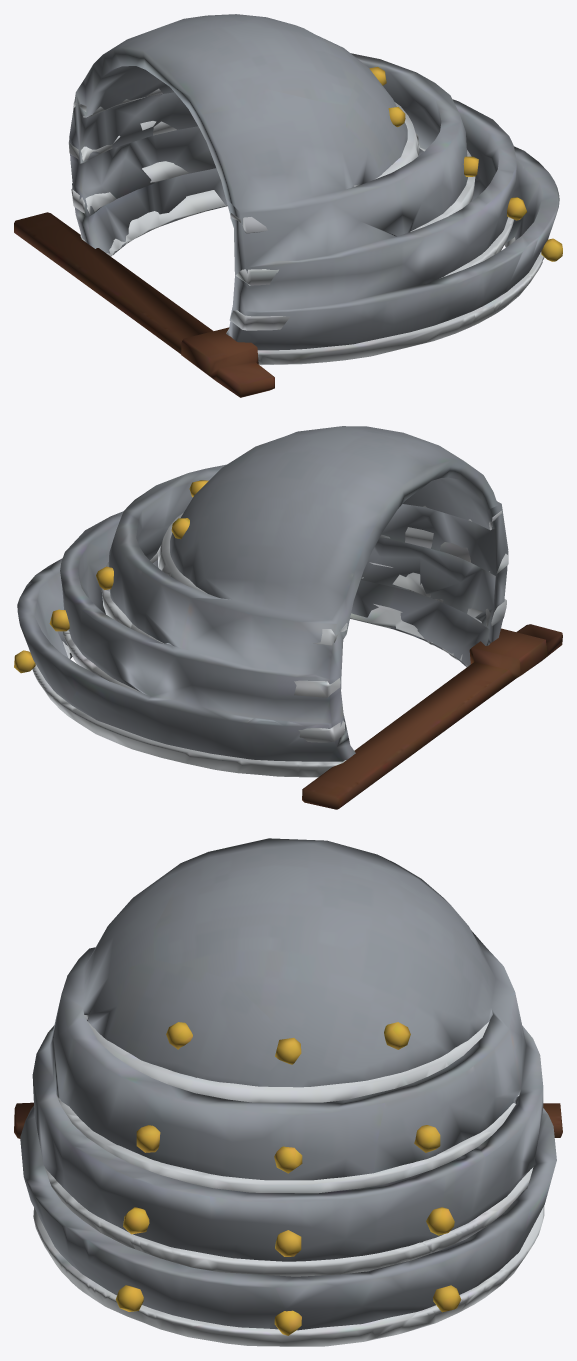
Rendered from shoulder-armor.glb.
The picture shows the model from 3 angles, top to bottom: view 1: azimuth 30°, elevation 25°; view 2: azimuth 150°, elevation 25°; view 3: azimuth 270°, elevation 25°; orthographic projection. The views are drawn at different scales.
Parts seen in each view (by area): view 1: plates; view 2: plates; view 3: plates.
Boxes of the visible parts, x1=… form: plates: x1=14, y1=14, x2=562, y2=397; plates: x1=14, y1=426, x2=562, y2=809; plates: x1=14, y1=838, x2=562, y2=1346.
Bounding box in the file's own units: 0.3172 × 0.1898 × 0.2999.
Materials: 1 (1 with a texture image).
